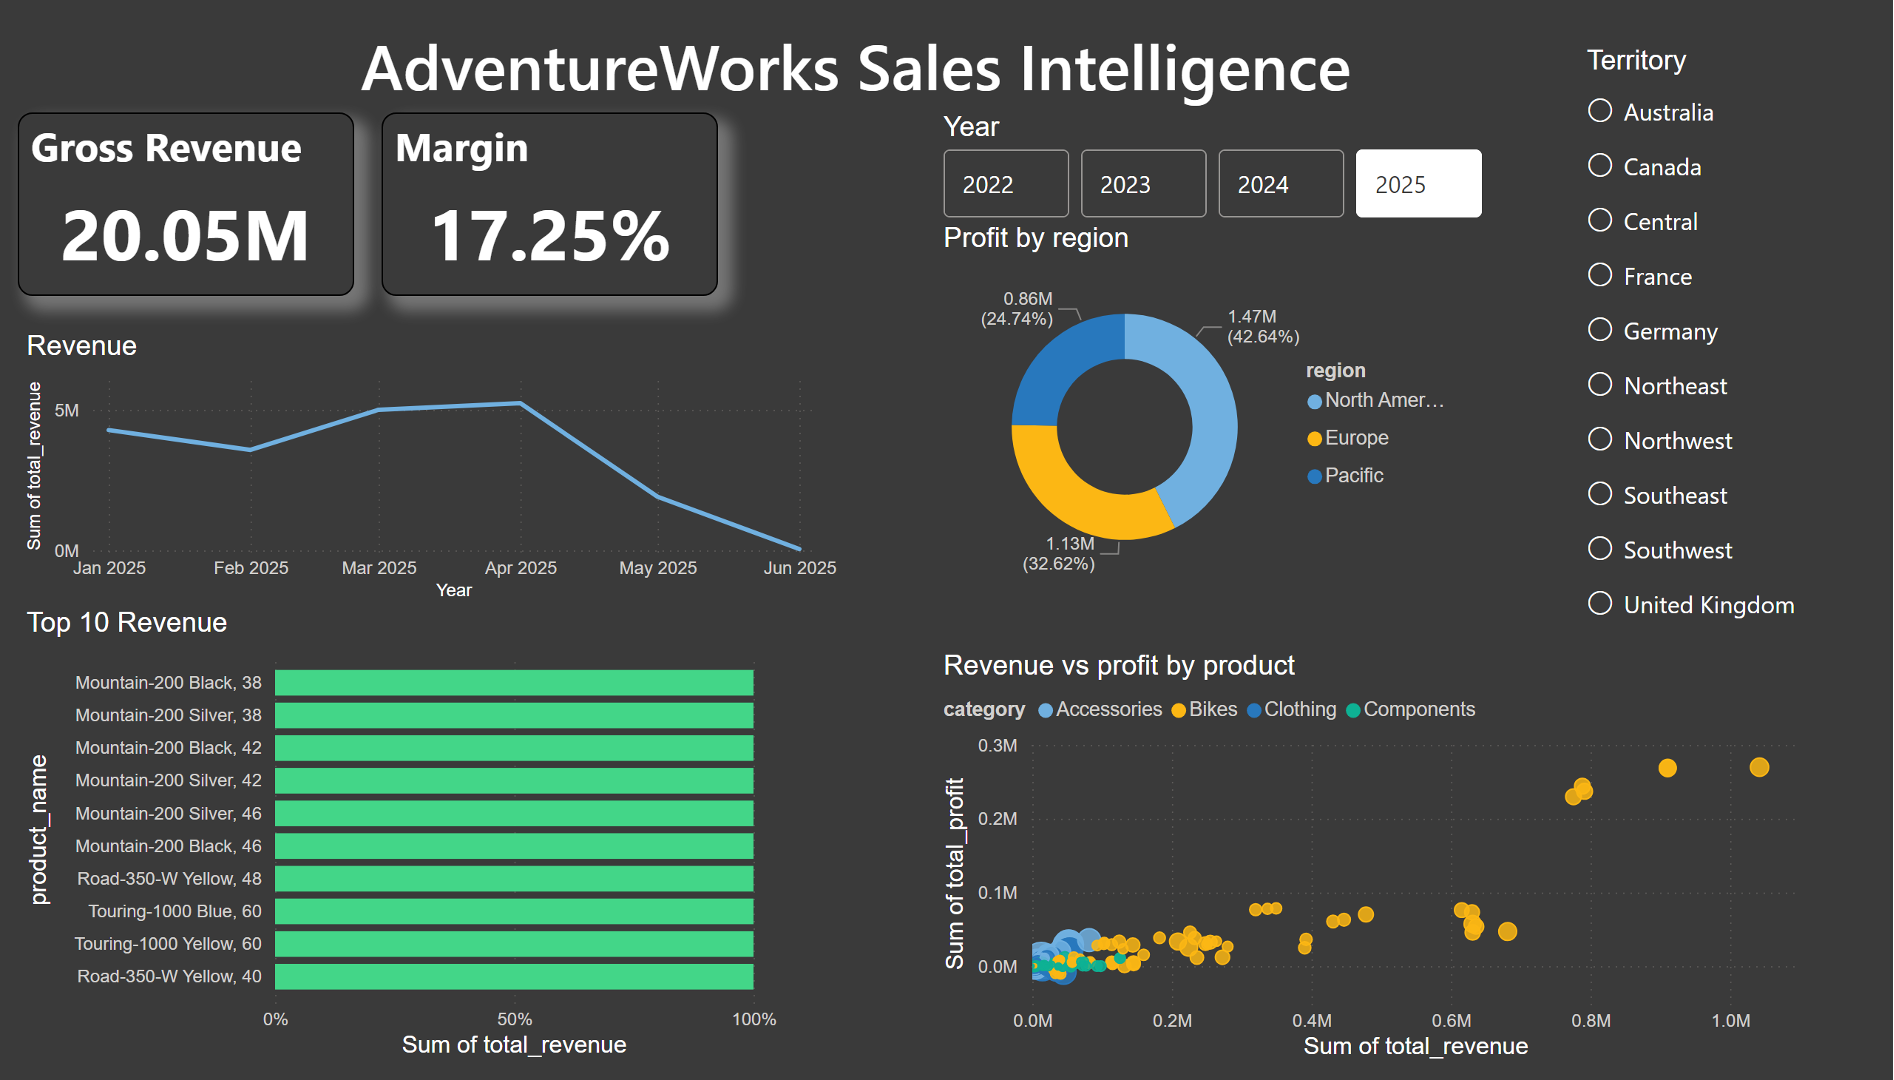

The page's visual inventory and layout, read from the dashboard file:
{"tool":"powerbi","page":{"name":"Page 1","canvas":[1280,720],"ordinal":0},"visuals":[{"type":"hundredPercentStackedBarChart","title":"Top 10 Revenue","fields":{"Category":["sales vw_sales_performance.product_name"],"Y":["Sum(sales vw_sales_performance.total_revenue)"]},"box":[12.5,410,517.5,310],"z":1000},{"type":"lineChart","title":"Revenue","fields":{"Y":["Sum(sales vw_sales_performance.total_revenue)"],"Category":["sales vw_sales_performance.order_date.Variation.Date Hierarchy.Year","sales vw_sales_performance.order_date.Variation.Date Hierarchy.Month"]},"box":[12.5,222.5,557.5,187.5],"z":2000},{"type":"advancedSlicerVisual","fields":{"Values":["sales vw_sales_performance.order_date.Variation.Date Hierarchy.Year"]},"box":[632.5,75,377.5,77.5],"z":3000},{"type":"listSlicer","title":"Territory","fields":{"Values":["sales vw_sales_performance.territory"]},"box":[1067.5,30,167.5,410],"z":4000},{"type":"textbox","title":"AdventureWorks Sales Intelligence","box":[239.4,15.2,700,60.6],"z":4500},{"type":"scatterChart","title":"Revenue vs profit by product","fields":{"Category":["sales vw_sales_performance.product_name"],"X":["Sum(sales vw_sales_performance.total_revenue)"],"Y":["Sum(sales vw_sales_performance.total_profit)"],"Series":["sales vw_sales_performance.category"],"Size":["Sum(sales vw_sales_performance.quantity)"]},"box":[633.3,439.4,603,281.8],"z":5000},{"type":"donutChart","title":"Profit by region","fields":{"Category":["sales vw_sales_performance.region"],"Y":["Sum(sales vw_sales_performance.total_profit)"]},"box":[632.5,150,360,260],"z":6000},{"type":"card","title":"Gross Revenue","fields":{"Values":["Sum(sales vw_sales_performance.total_revenue)"]},"box":[12.1,75.8,227.3,124.2],"z":7000},{"type":"card","title":"Margin","fields":{"Values":["sales vw_sales_performance.Margin"]},"box":[257.6,75.8,227.3,124.2],"z":9000}]}

Visuals, with their boxes in screenshot pixels (x1, y1, x2, y2), scaled from the page's 1280x720 canvas onto the 1894x1080 screenshot:
"Top 10 Revenue" hundredPercentStackedBarChart: region(18, 615, 784, 1079)
"Revenue" lineChart: region(18, 334, 843, 615)
advancedSlicerVisual - sales vw_sales_performance.order_date.Variation.Date Hierarchy.Year: region(936, 112, 1494, 229)
"Territory" listSlicer: region(1580, 45, 1827, 660)
"AdventureWorks Sales Intelligence" textbox: region(354, 23, 1390, 114)
"Revenue vs profit by product" scatterChart: region(937, 659, 1829, 1079)
"Profit by region" donutChart: region(936, 225, 1469, 615)
"Gross Revenue" card: region(18, 114, 354, 300)
"Margin" card: region(381, 114, 718, 300)
